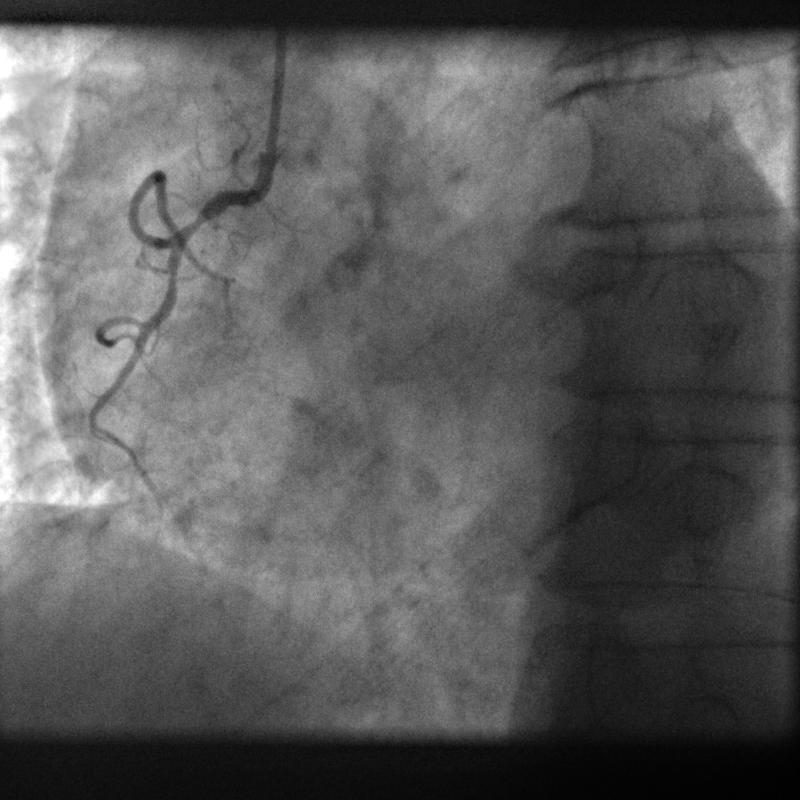Stenosis: (174, 201, 212, 245)
